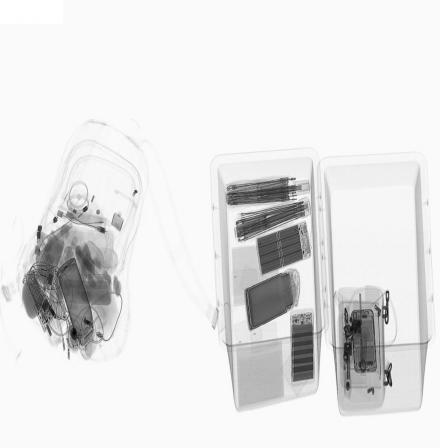Powerbank: (290, 308, 315, 387)
